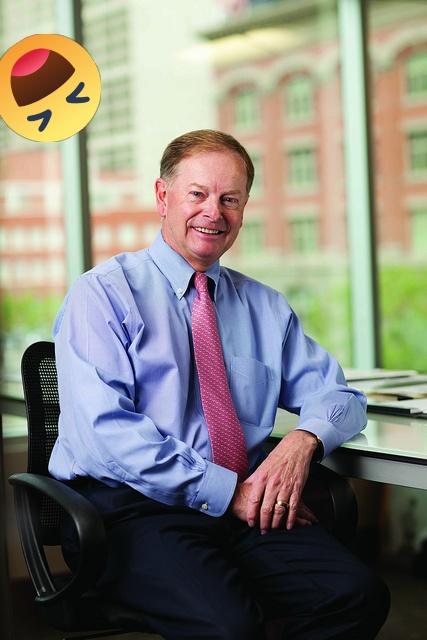haha: (0, 34, 101, 142)
